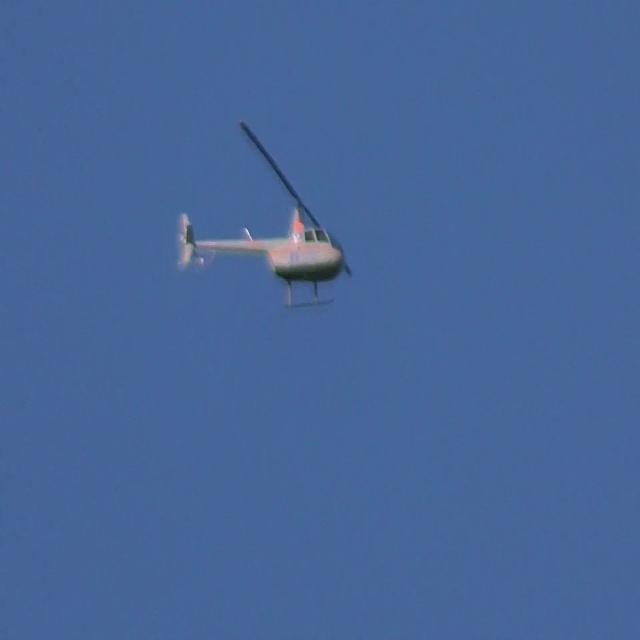CIV_HELO: (176, 192, 344, 311)
